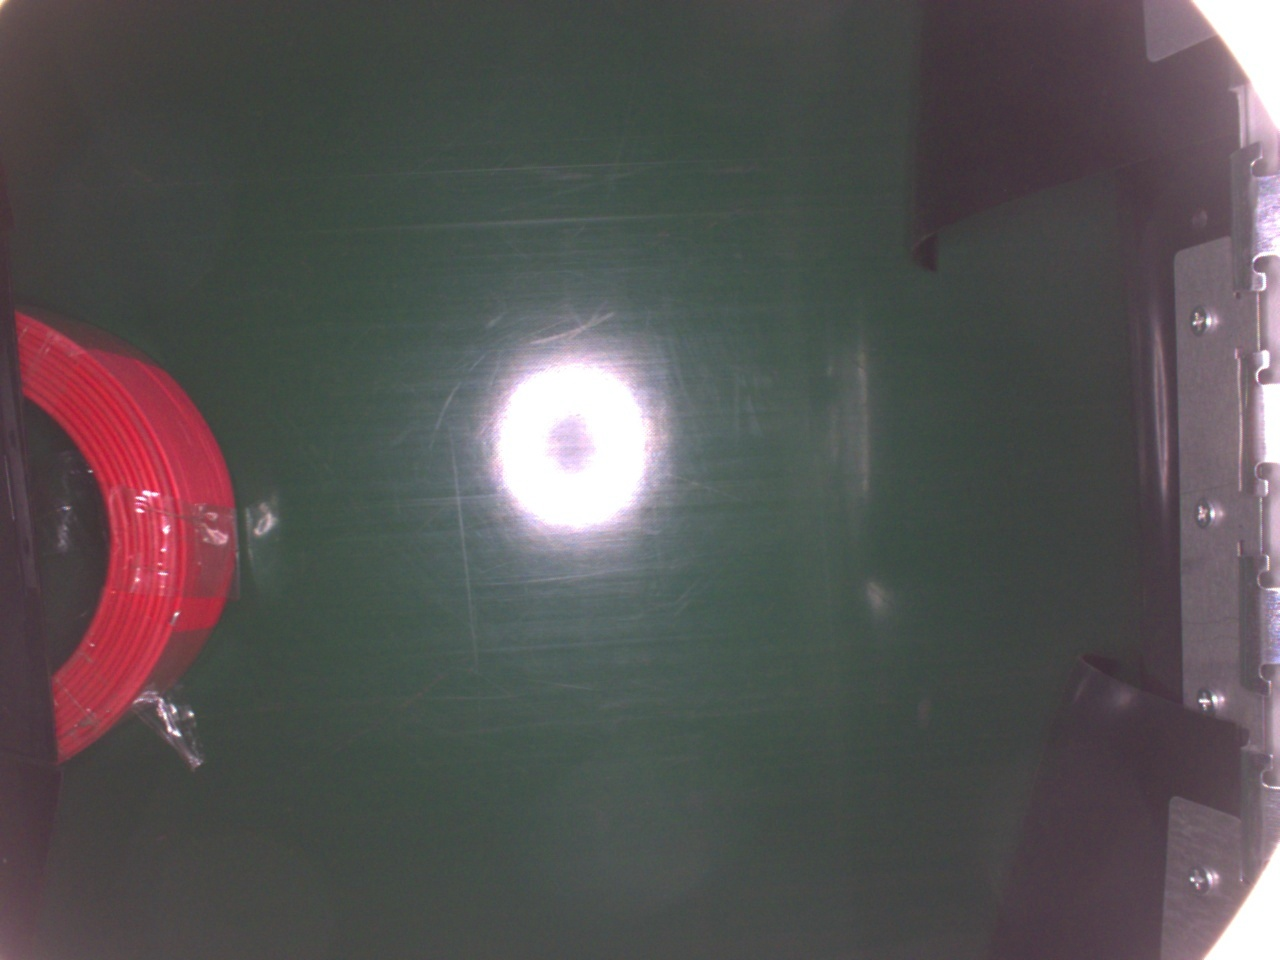red: (16, 302, 239, 759)
